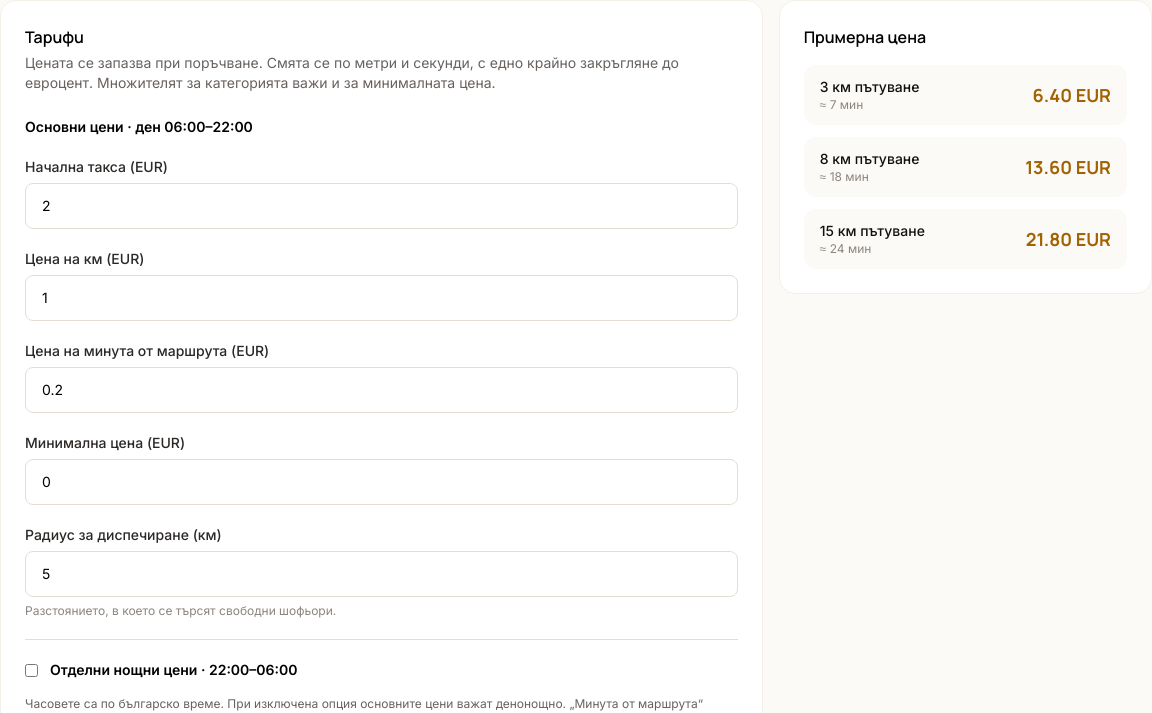
Test: confirms the exact new tariff version after a lost write reply without replay
Replace the text in the number field labelled "Цена на км (EUR)" with "1.5" at x=381, y=298, box [25,275,738,321]
(page scrolled)
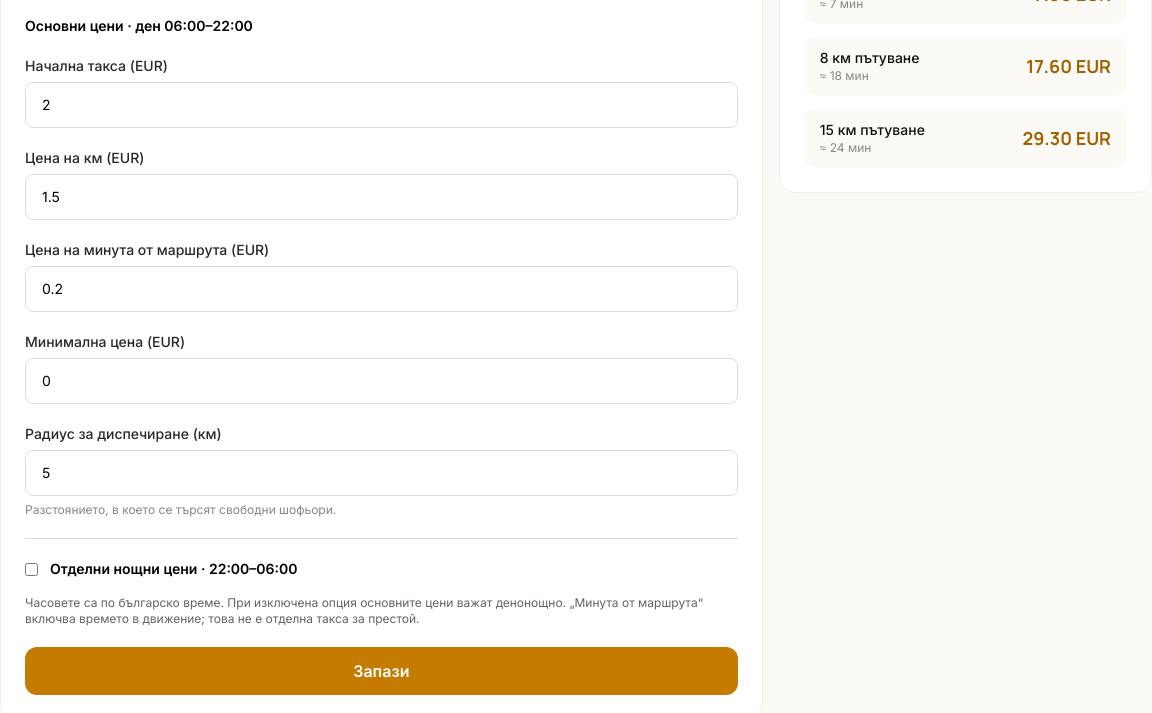
Click the button "Запази" at x=381, y=671, box [25,647,738,695]
(page scrolled)
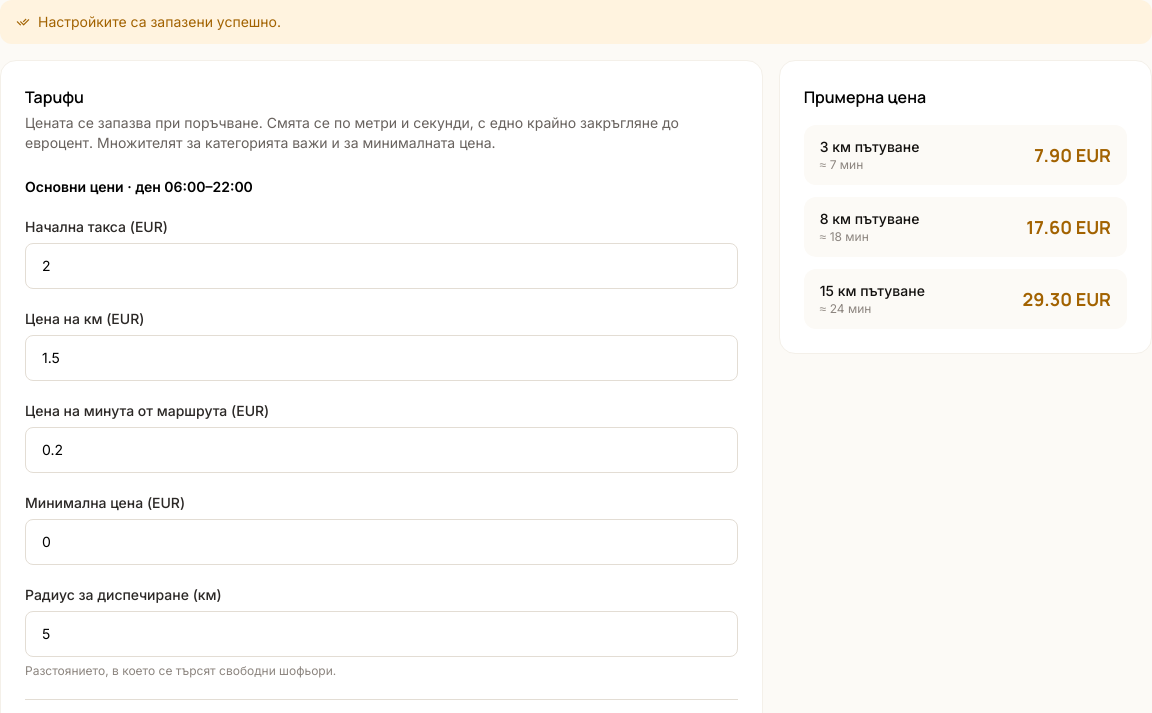
Check: the text "Настройките са запазени успешно." is shown, box [0,0,1151,44]
